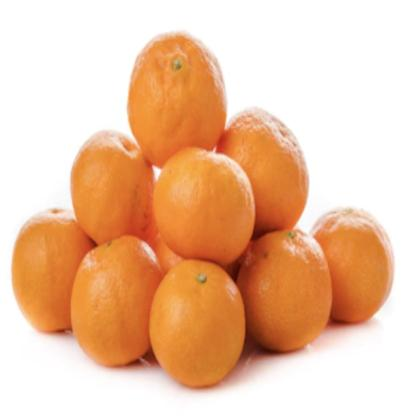fresh: (16, 31, 392, 392)
